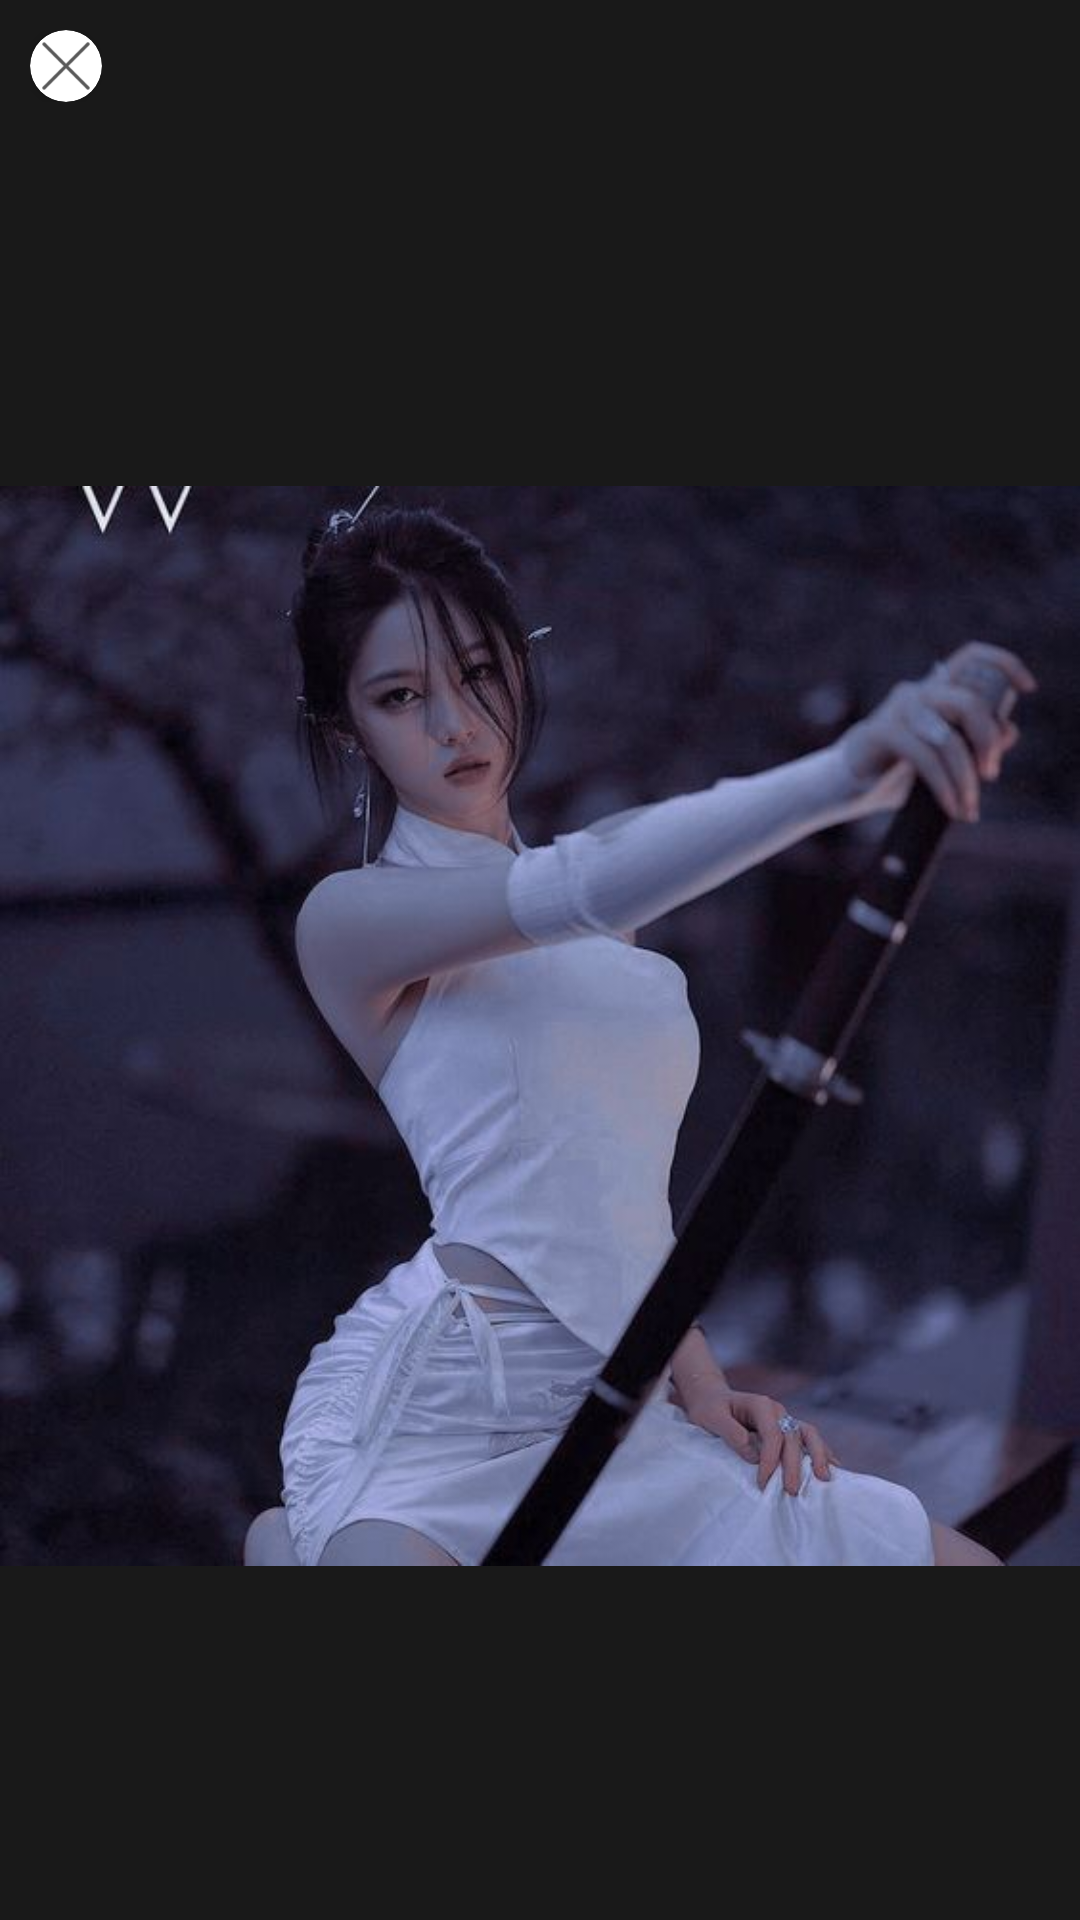

Icons on this 1080w x 1920h Android screen, each with its box as (x1, y1, x2, y2):
close: (30, 30, 102, 102)
